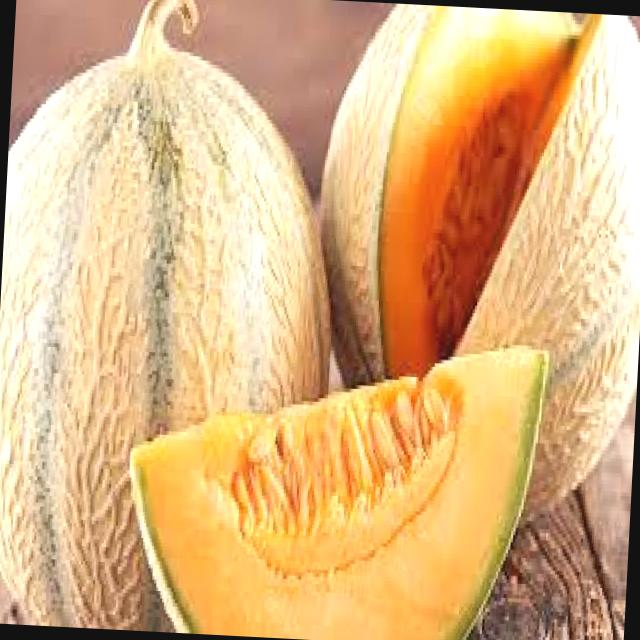cantaloupe: (0, 0, 348, 640), (304, 0, 640, 526), (121, 325, 549, 640)
